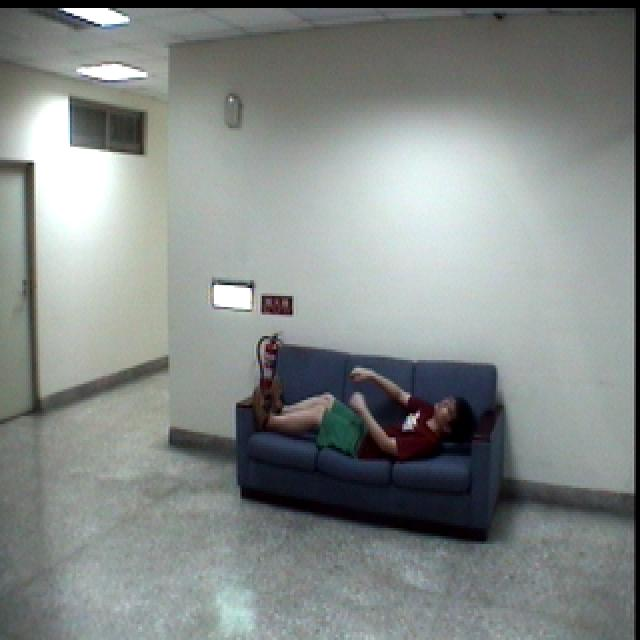lie: (251, 365, 476, 469)
